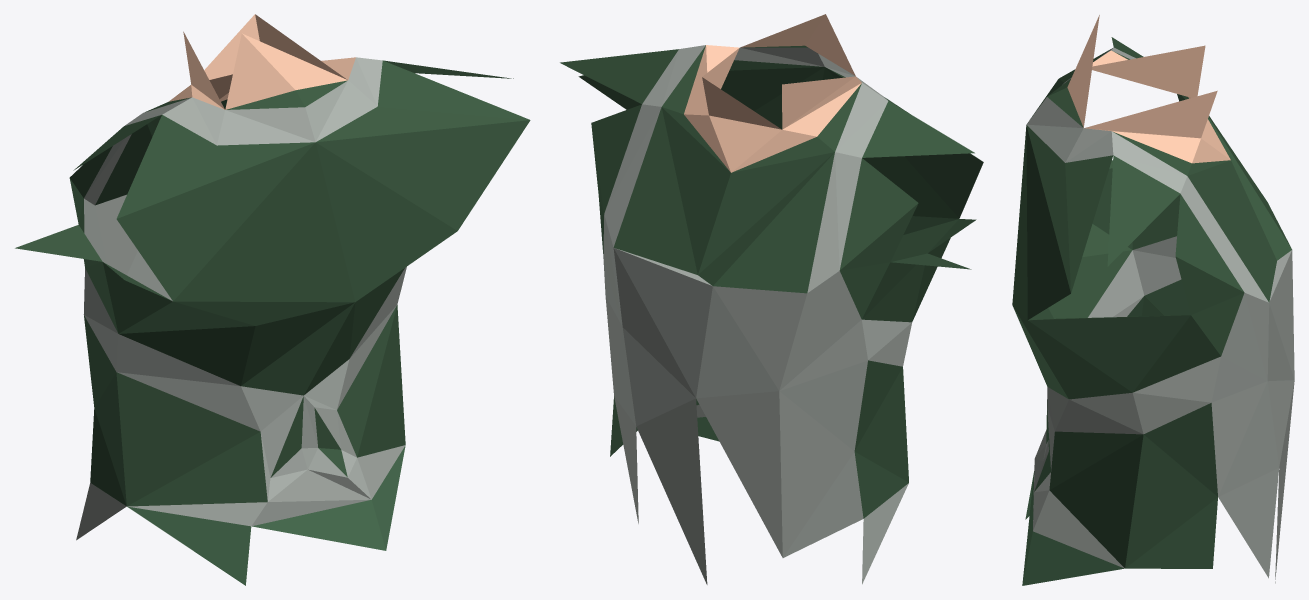
The model's file is Torso_Lo.obj.
3 views of the same model, side by side, from view 1: azimuth 30°, elevation 25°; view 2: azimuth 150°, elevation 25°; view 3: azimuth 270°, elevation 25° (orthographic). The views are drawn at different scales.
Size of the model in its own units: 0.5854 by 0.6552 by 0.3036.
1 material, 1 textured.
